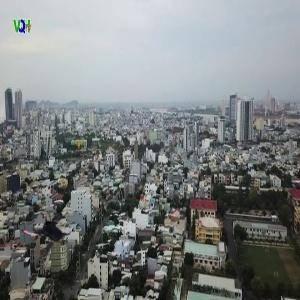drone: (16, 199, 78, 261)
